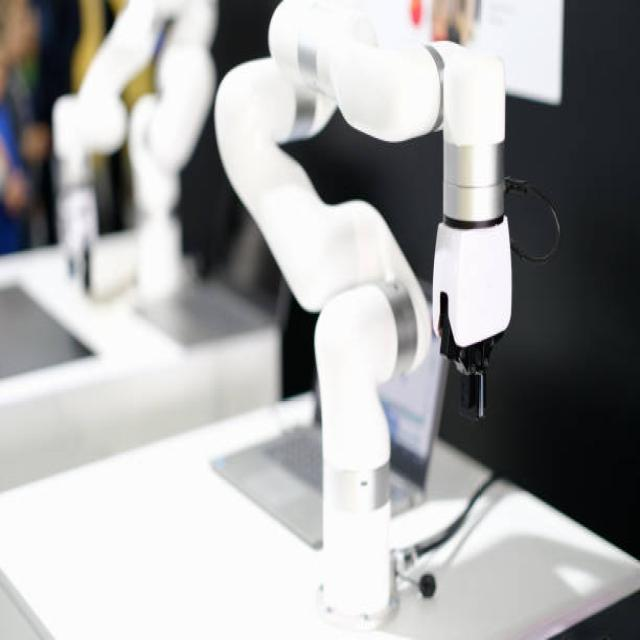Robotic-arm: (217, 0, 526, 640), (34, 0, 218, 320)
